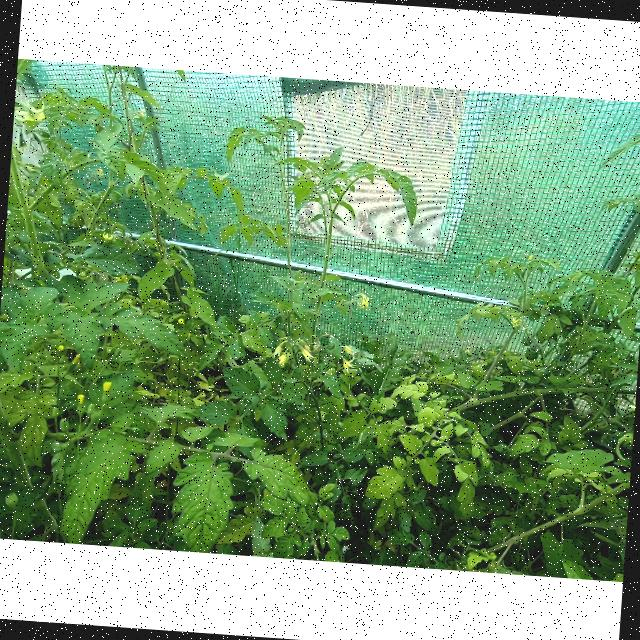Flowers: (296, 341, 317, 363), (336, 355, 358, 373), (352, 292, 370, 310), (273, 353, 291, 368), (272, 339, 282, 358), (340, 346, 352, 354)
